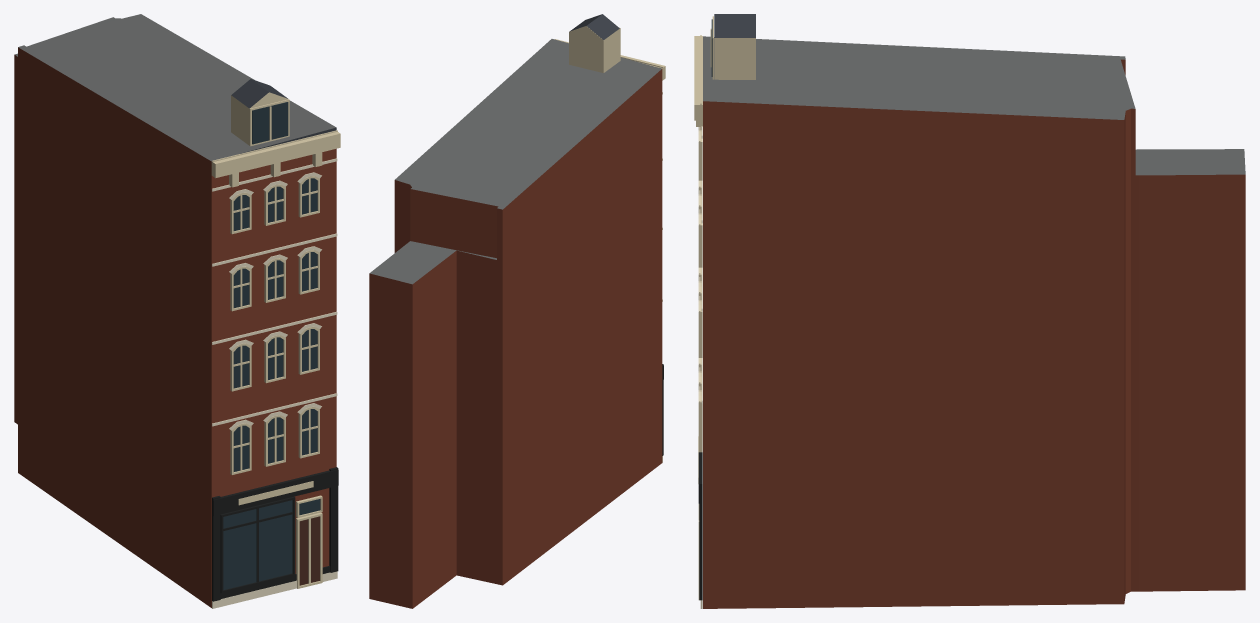
File: recipe-bilder-152669.glb
3 renders of one model, left to right at view 1: azimuth 30°, elevation 25°; view 2: azimuth 150°, elevation 25°; view 3: azimuth 270°, elevation 25°, orthographic. The views are drawn at different scales.
Parts seen in each view (by area): view 1: bilder-152669; view 2: bilder-152669; view 3: bilder-152669.
Boxes of the visible parts, x1,y1,x2,y2 form: bilder-152669: (14,14,340,608); bilder-152669: (369,14,665,608); bilder-152669: (694,14,1245,608).
Bounding box in the file's own units: 5.36 × 19.35 × 17.25.
